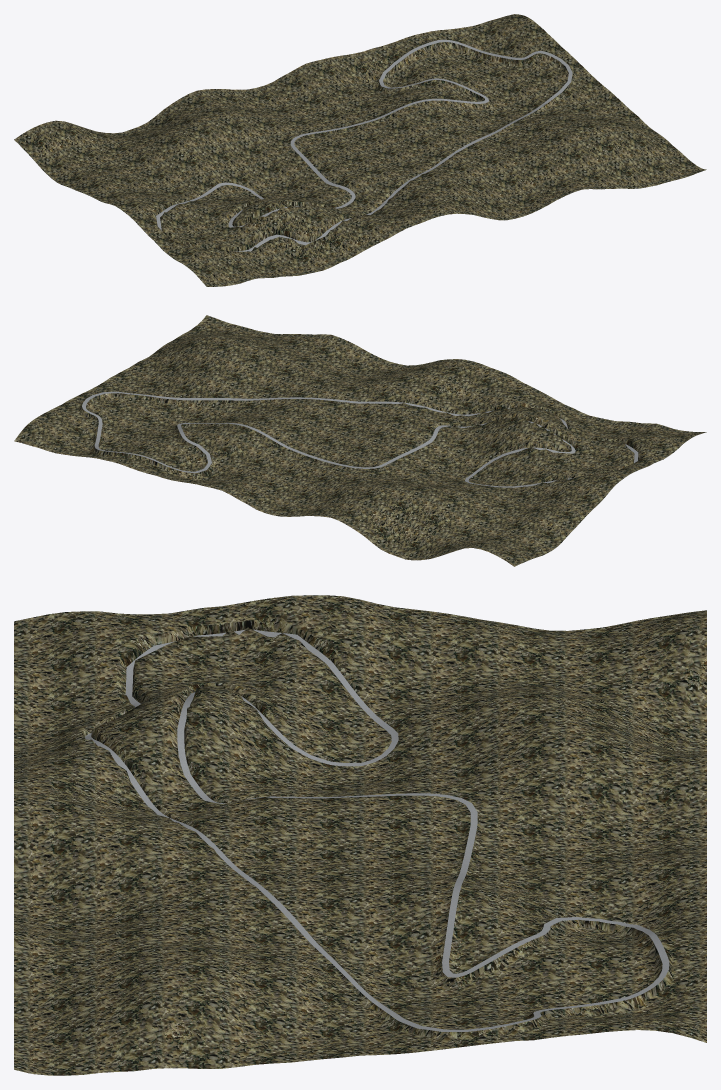
The model's file is circuit.obj.
3 views of the same model, one above another, from view 1: azimuth 30°, elevation 25°; view 2: azimuth 150°, elevation 25°; view 3: azimuth 270°, elevation 25° (orthographic). The views are drawn at different scales.
Visible parts, largest first — view 1: Plane002, Object001; view 2: Plane002, Object001; view 3: Plane002, Object001.
Boxes of the visible parts, bbox=[...] form: Plane002: bbox=[14, 14, 706, 286]; Object001: bbox=[156, 39, 572, 251]; Plane002: bbox=[14, 315, 706, 566]; Object001: bbox=[82, 391, 638, 487]; Plane002: bbox=[14, 595, 706, 1075]; Object001: bbox=[85, 629, 669, 1031].
Bounding box in the file's own units: 3000 × 177 × 2000.
